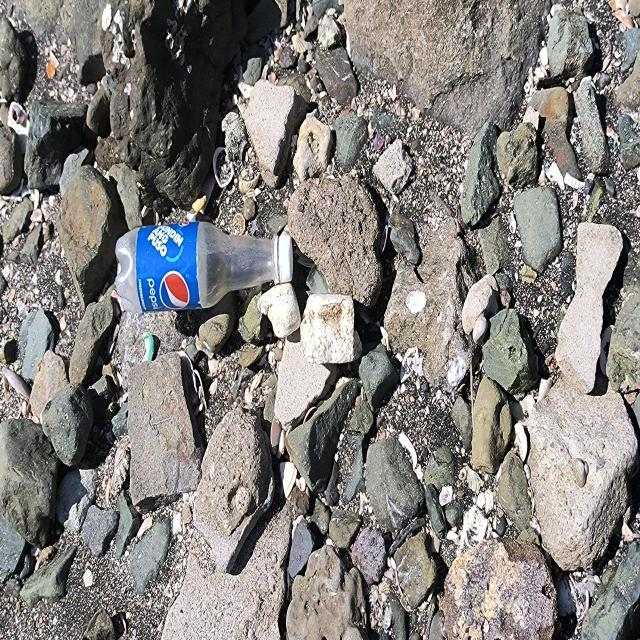plastic_waste: (115, 220, 295, 316)
